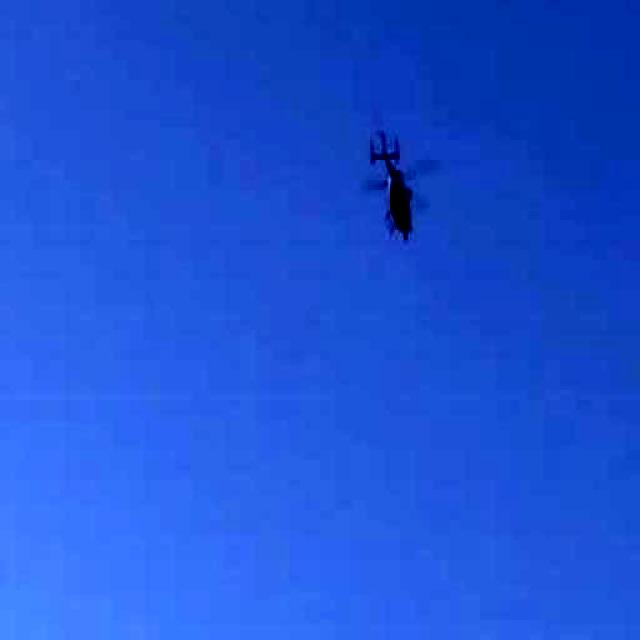drone: (341, 115, 452, 271)
